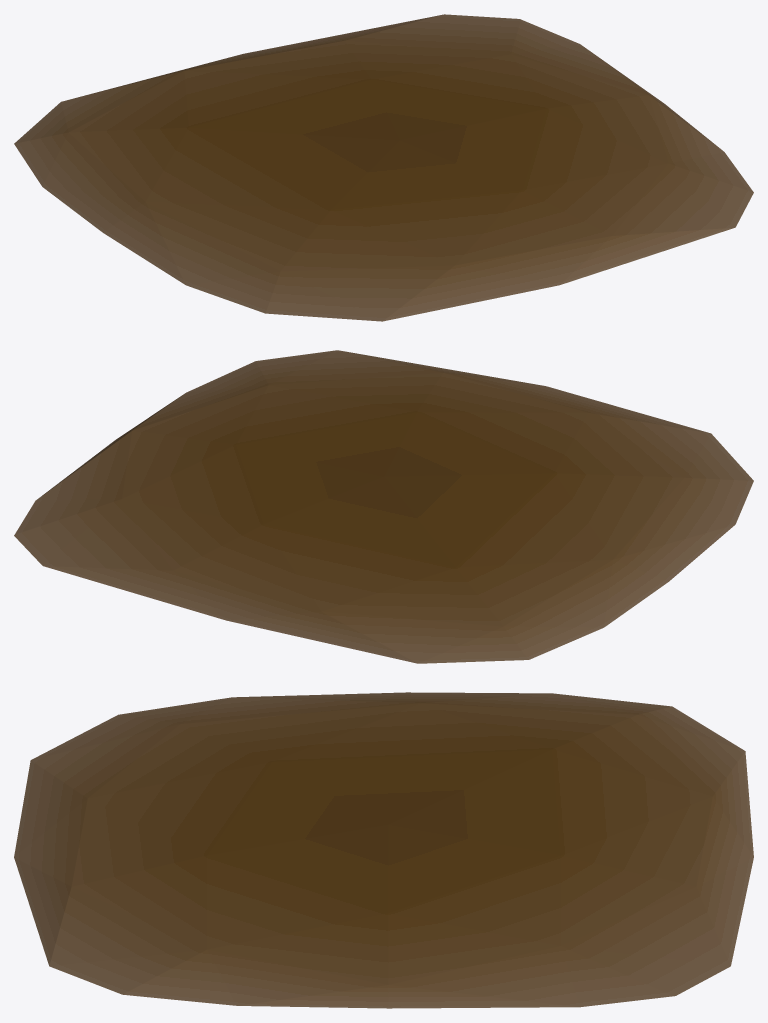
File: MulchWood.glb
3 renders of one model, top to bottom at view 1: azimuth 30°, elevation 25°; view 2: azimuth 150°, elevation 25°; view 3: azimuth 270°, elevation 25°, orthographic. The views are drawn at different scales.
Visible parts, largest first — view 1: Mulch Wood; view 2: Mulch Wood; view 3: Mulch Wood.
Boxes of the visible parts, bbox=[...] form: Mulch Wood: bbox=[14, 14, 753, 321]; Mulch Wood: bbox=[14, 350, 753, 663]; Mulch Wood: bbox=[14, 692, 753, 1008].
Size of the model in its own units: 0.3258 by 0.0156 by 0.3224.
1 material, 1 textured.
